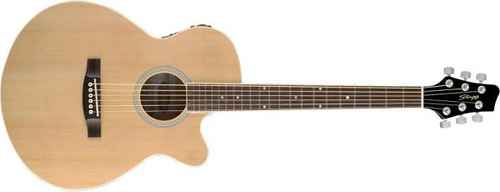guitar: (1, 1, 500, 190)
